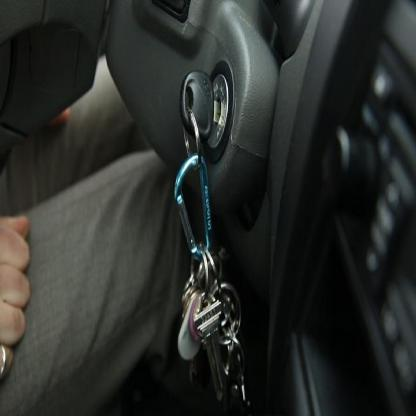keys: (177, 262, 252, 408)
